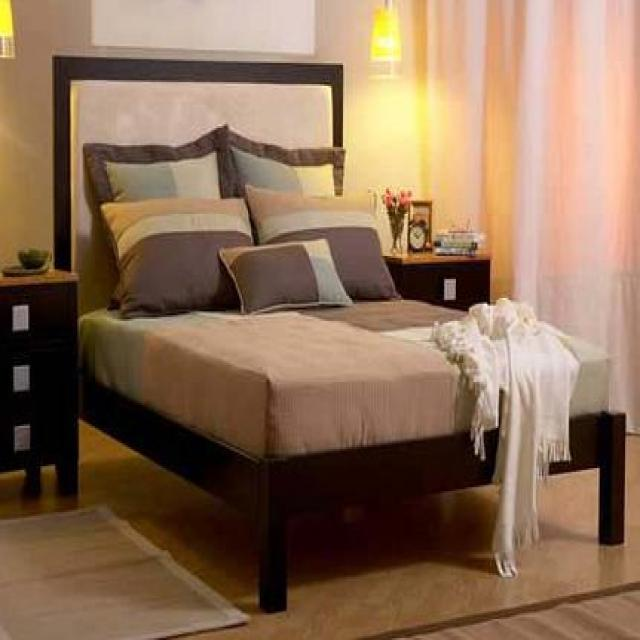bed: (52, 54, 625, 614)
